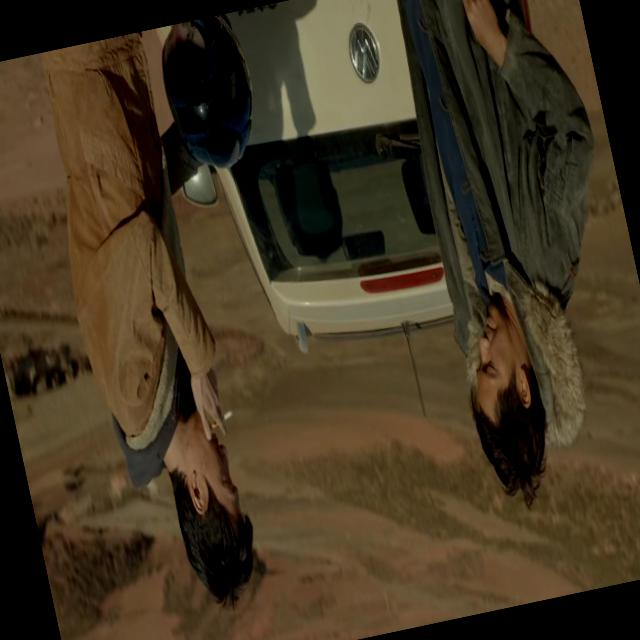cigarette: (214, 392, 238, 430)
